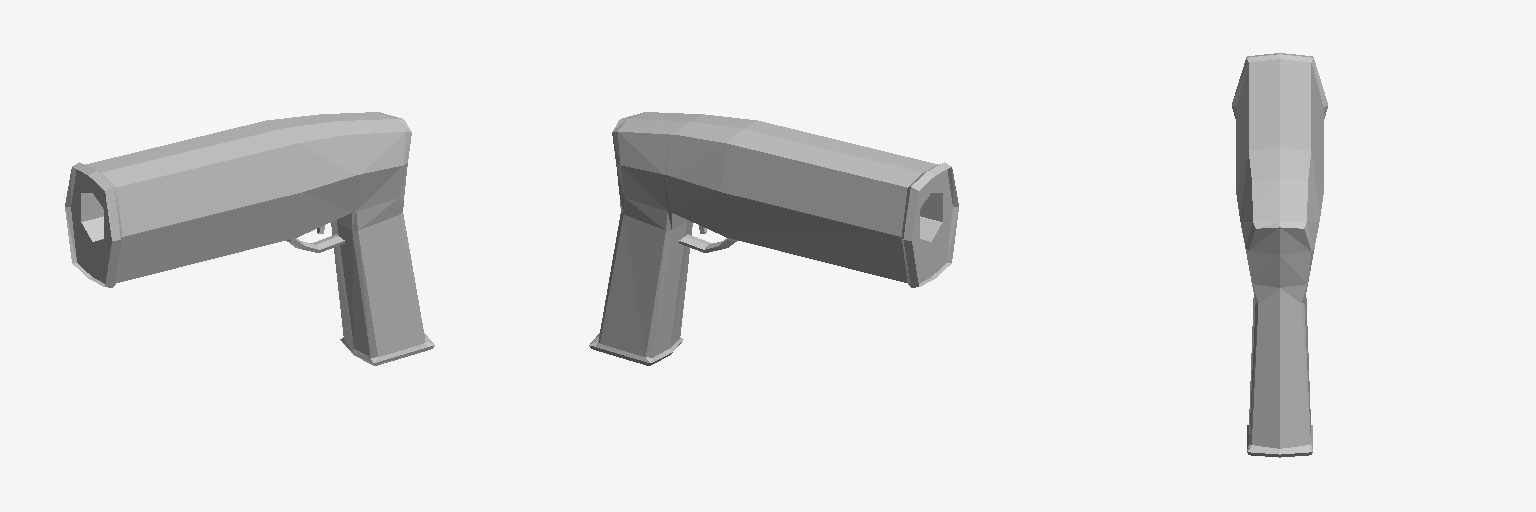
Rendered from pistol.obj.
The picture shows the model from 3 angles: view 1: azimuth 30°, elevation 25°; view 2: azimuth 150°, elevation 25°; view 3: azimuth 270°, elevation 25°; orthographic projection.
Visible parts, largest first — view 1: Plane; view 2: Plane; view 3: Plane.
Part boxes in pixels (left/top/right/bottom): Plane: left=65, top=112, right=434, bottom=365; Plane: left=589, top=112, right=958, bottom=365; Plane: left=1232, top=53, right=1327, bottom=457.
Size of the model in its own units: 4.16 by 2.94 by 1.04.